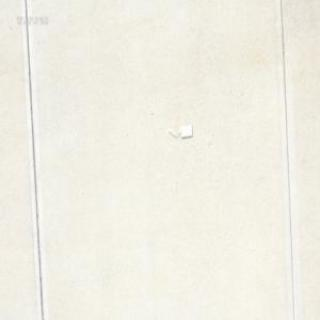LuggageTagtrack_idkeyframe: (166, 122, 192, 140)
